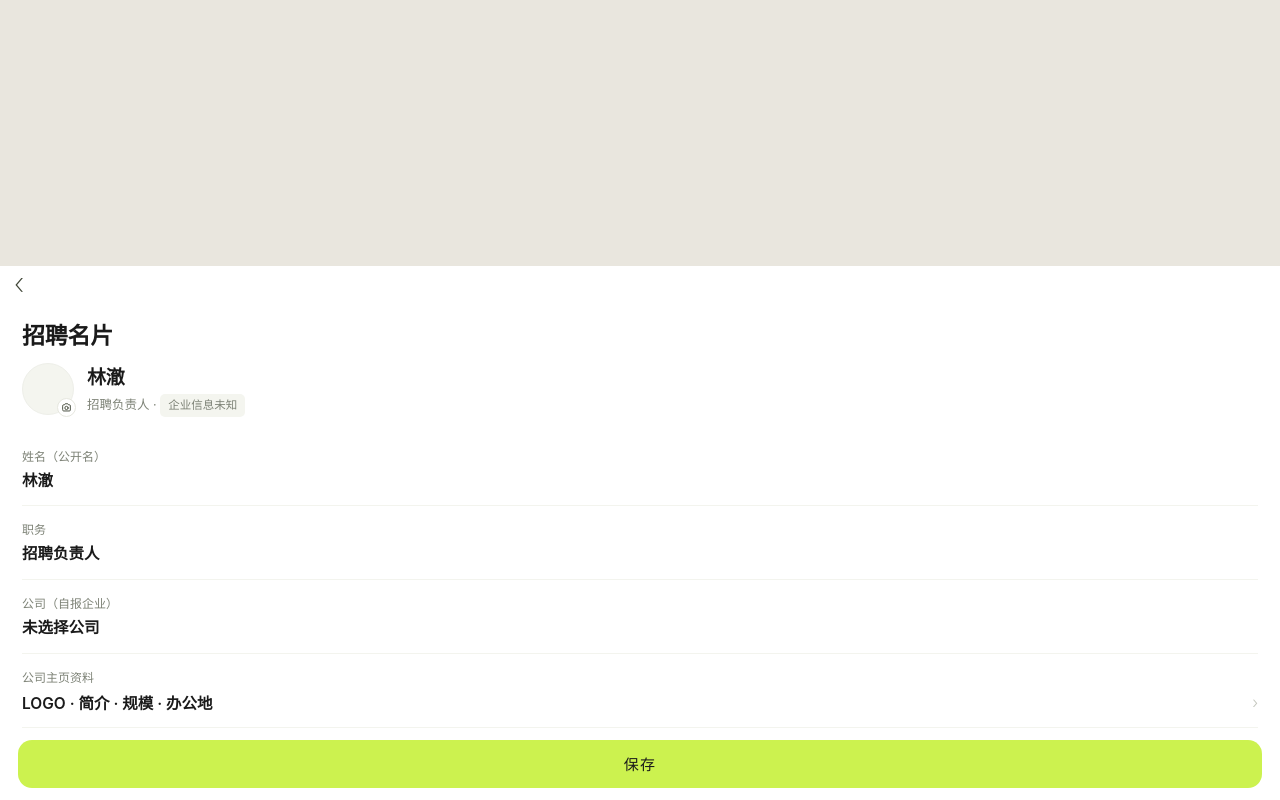
Test: 招聘名片 · Backend 诚实身份 › 档案 organization_ref 为 null 时显示未选择公司，保存被拦且不写未认证声明
(page scrolled)
Expected: the button "未选择公司" is shown, [22, 617, 1258, 639]
Click the button "保存".
click(640, 764)  # box [18, 740, 1262, 788]
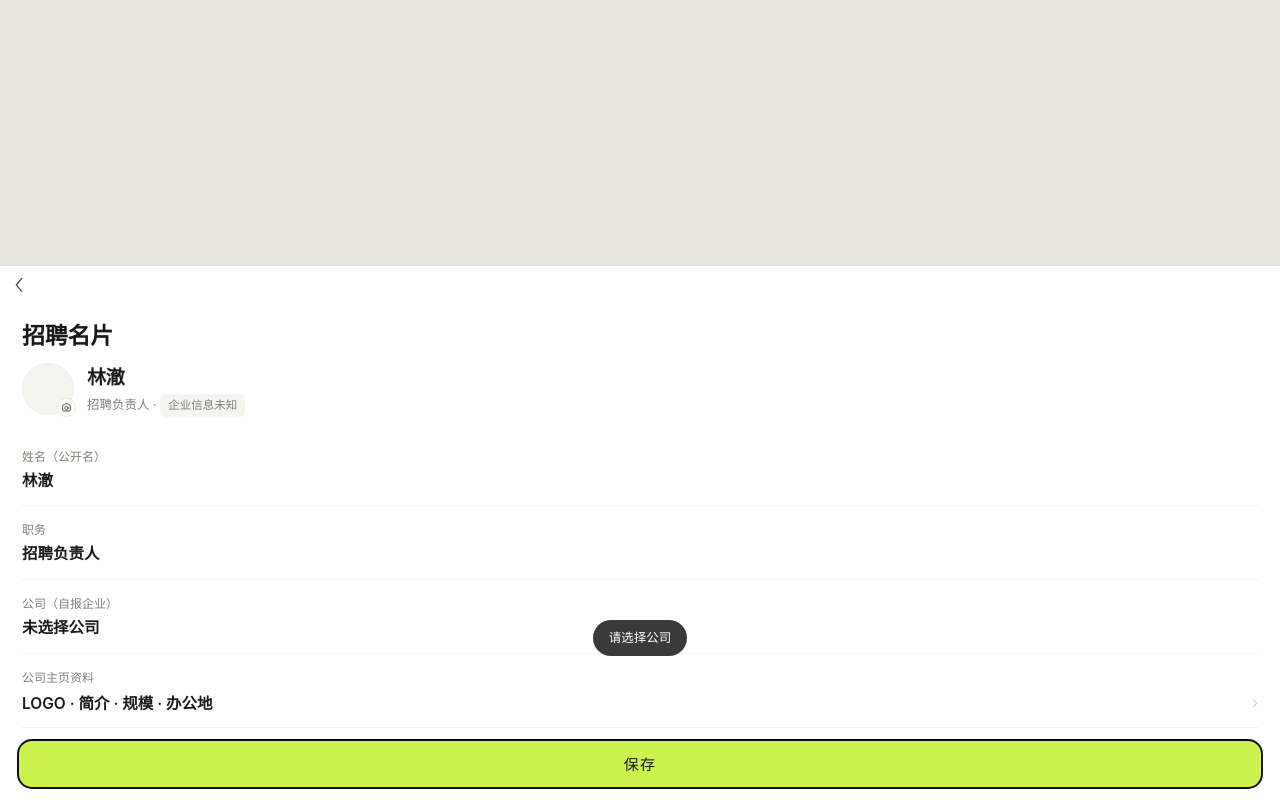
Expected: the text "请选择公司" is shown, [593, 620, 687, 656]
